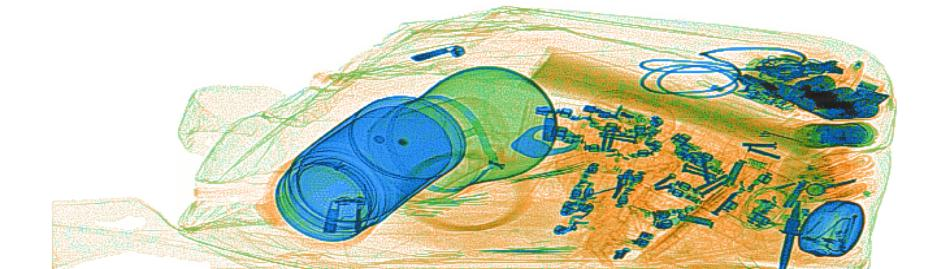battery: (789, 74, 881, 121), (808, 120, 870, 149)
